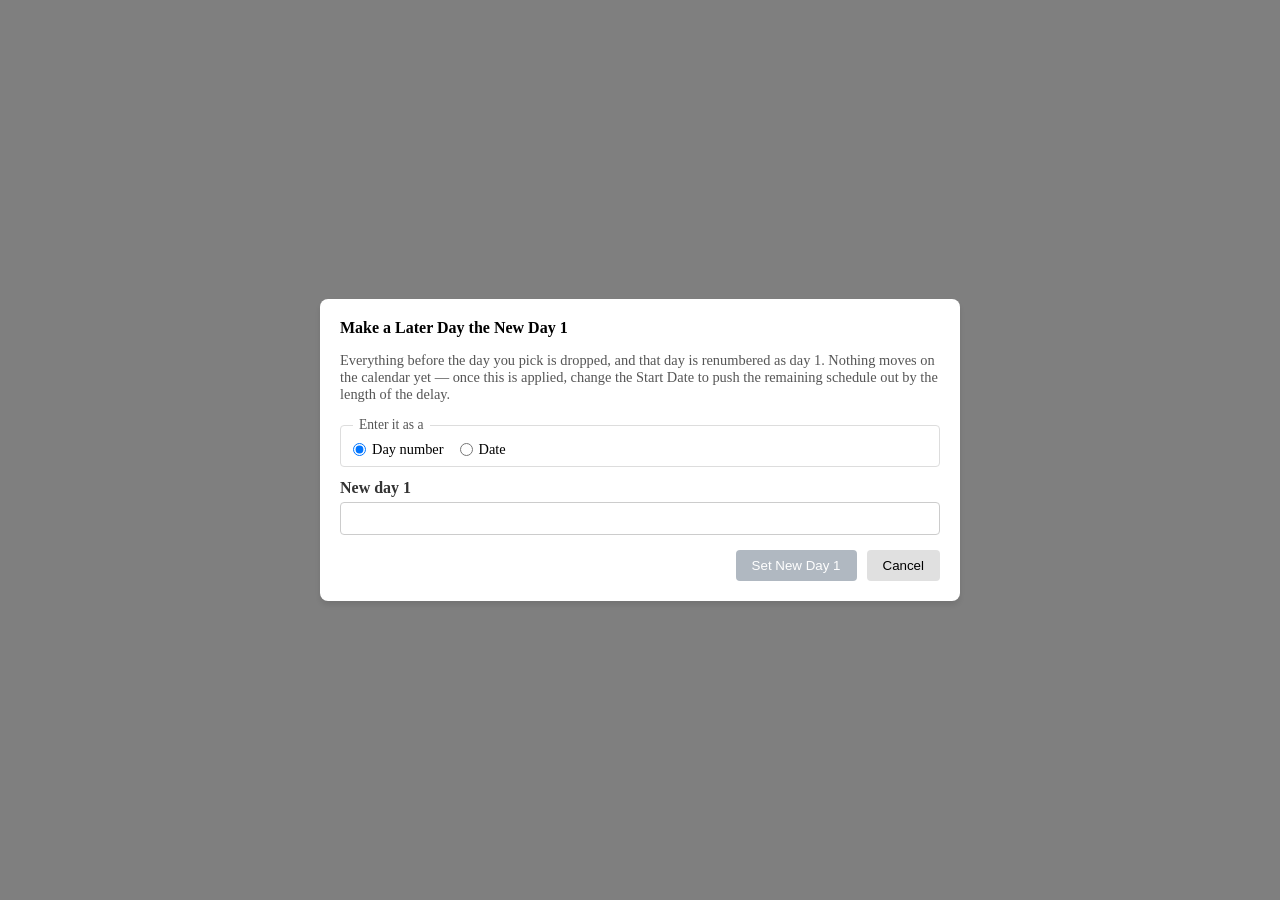
Scenario: RebaseStartDateModal › reports the day number when a date is picked instead
Click the radio button labelled "Date".
click(466, 450)  # box x1=460 y1=443 x2=472 y2=456
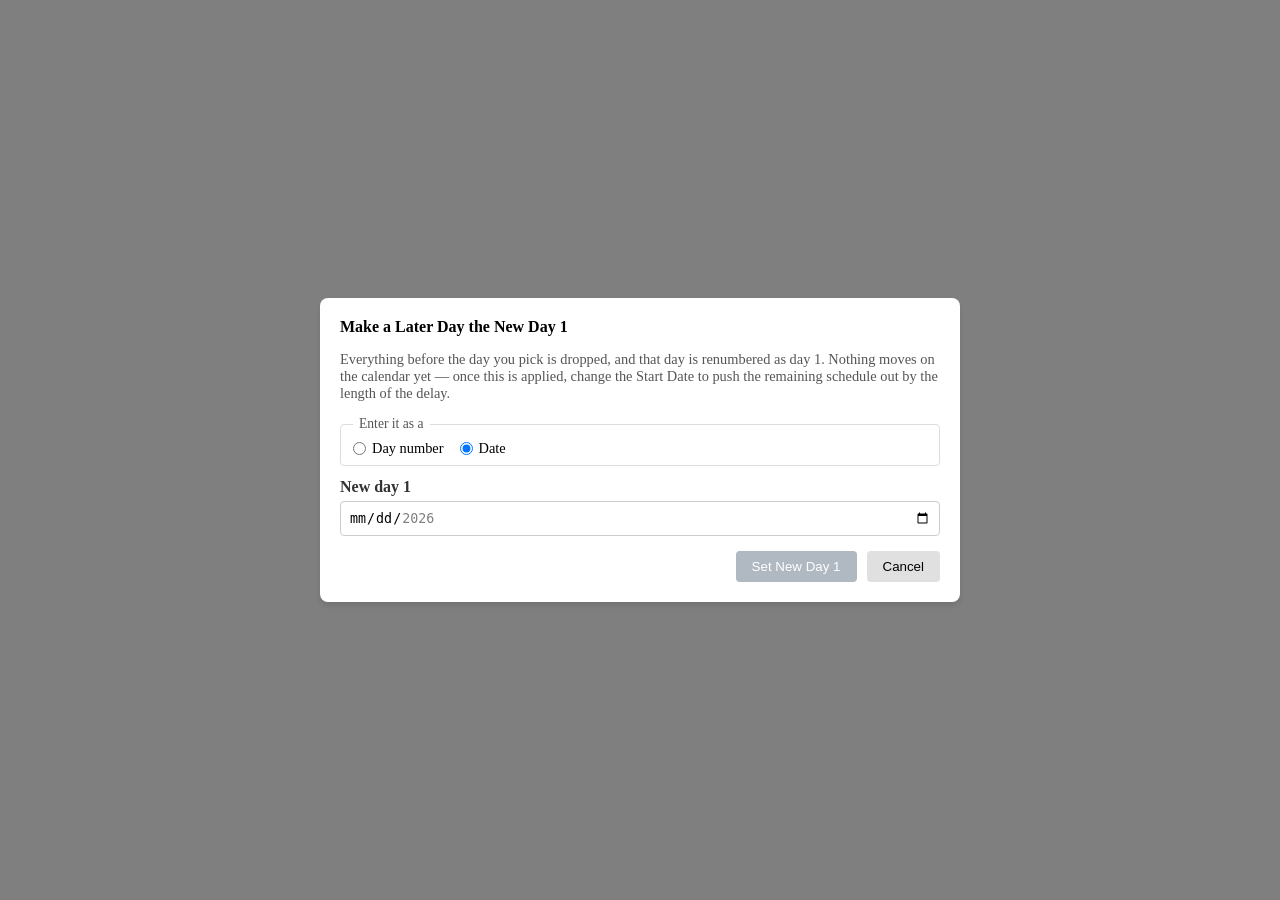
Type "2026-09-28" into the date field labelled "New day 1".
click(640, 519); type("2026-09-28")  # box x1=340 y1=501 x2=940 y2=536
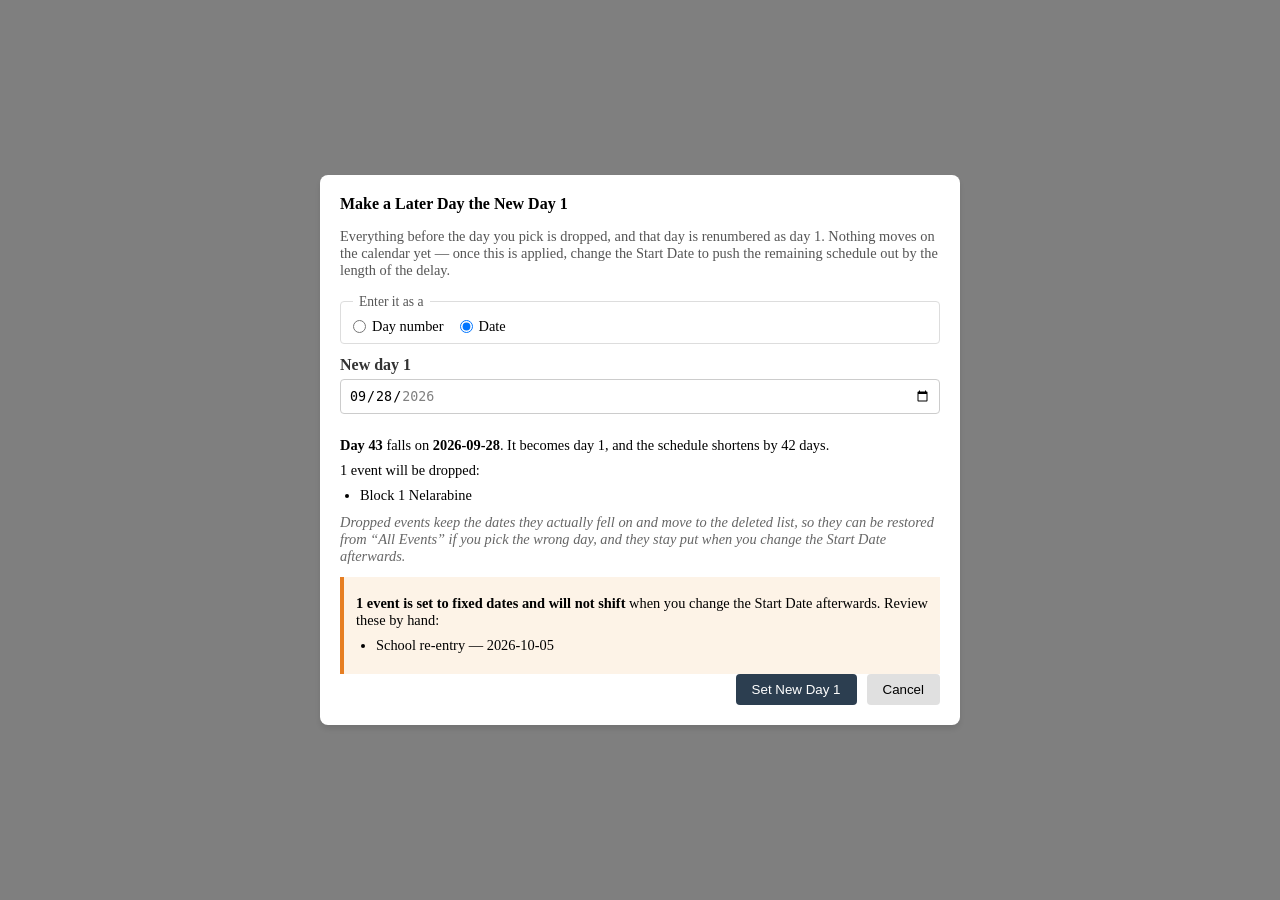
expect the text "Day 43" is shown: met, box x1=340 y1=437 x2=383 y2=453
